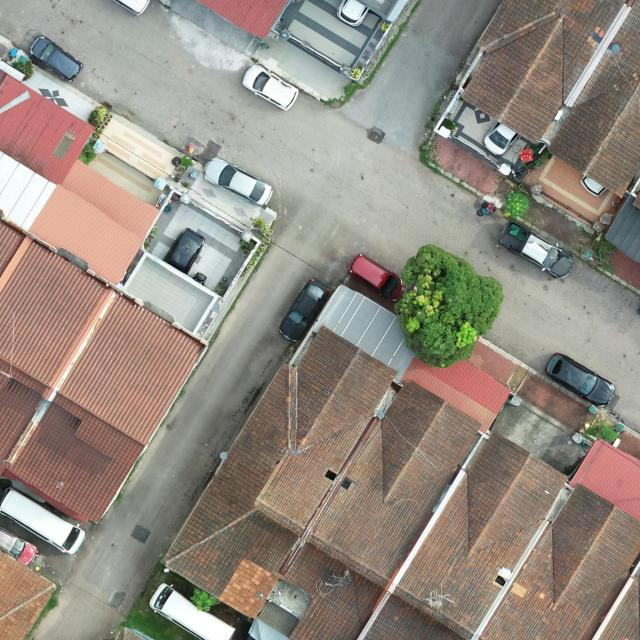Tree: (392, 242, 505, 370), (189, 586, 223, 612), (502, 192, 531, 219)
